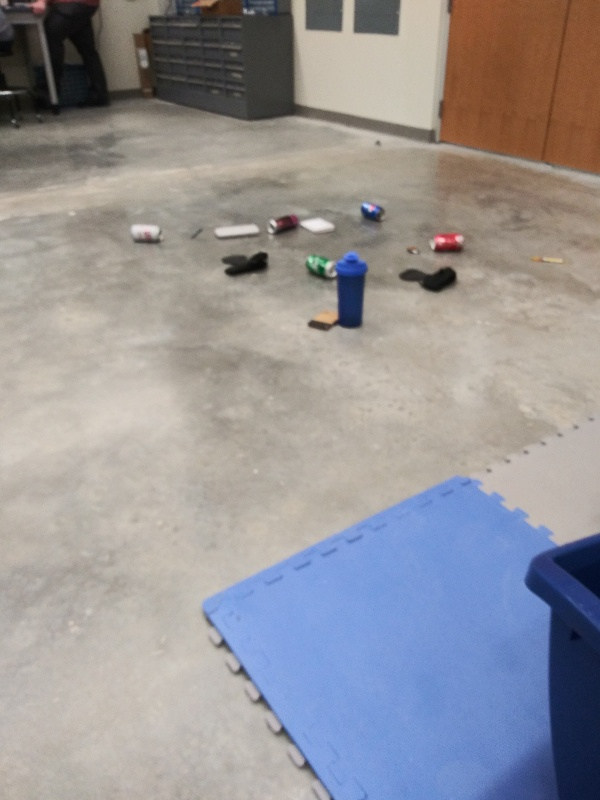can: (302, 252, 340, 280), (427, 230, 466, 255), (128, 221, 167, 244), (266, 214, 300, 236), (361, 201, 387, 221)
